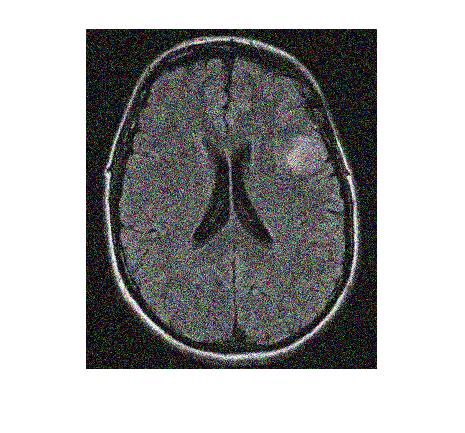Brain_Cancer: (278, 128, 334, 185)
